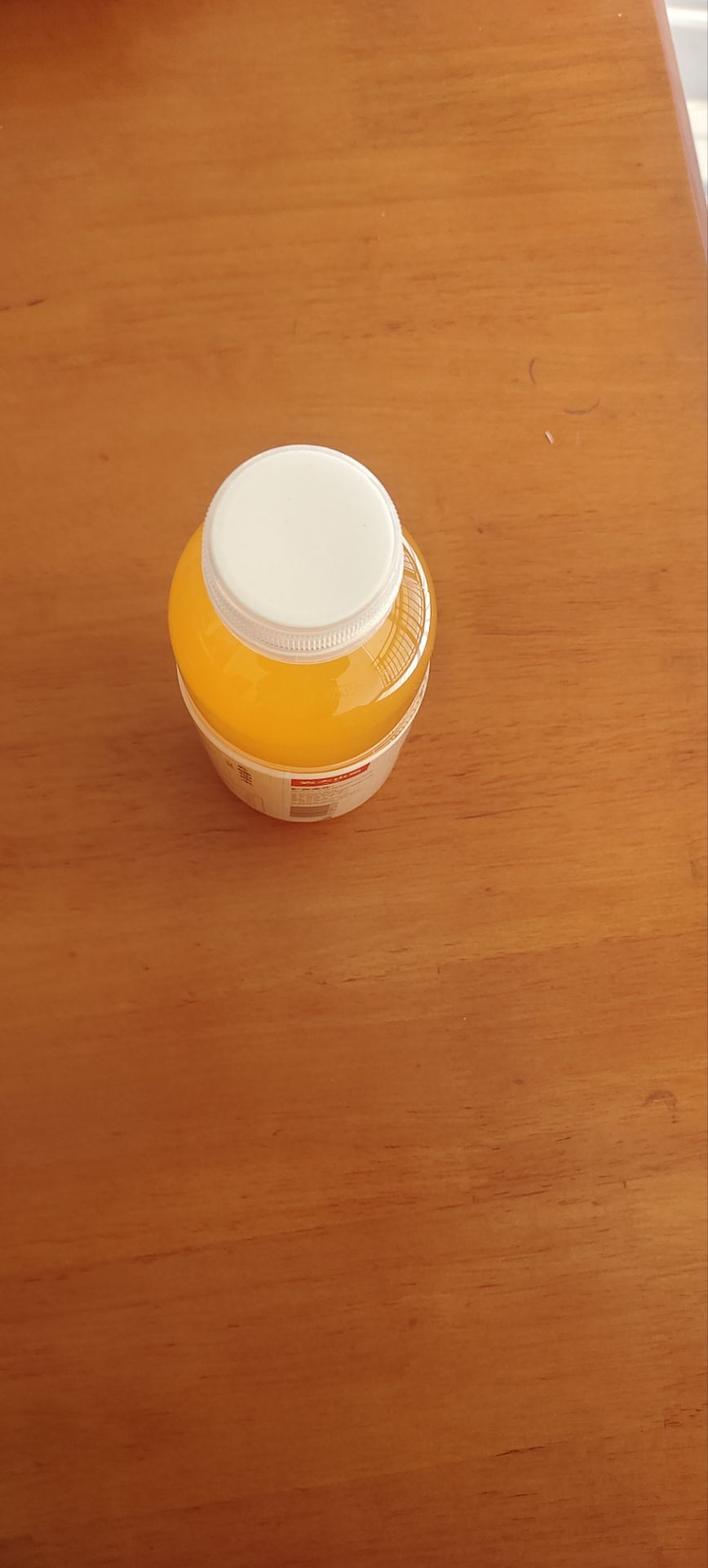redbull: (119, 436, 476, 853)
